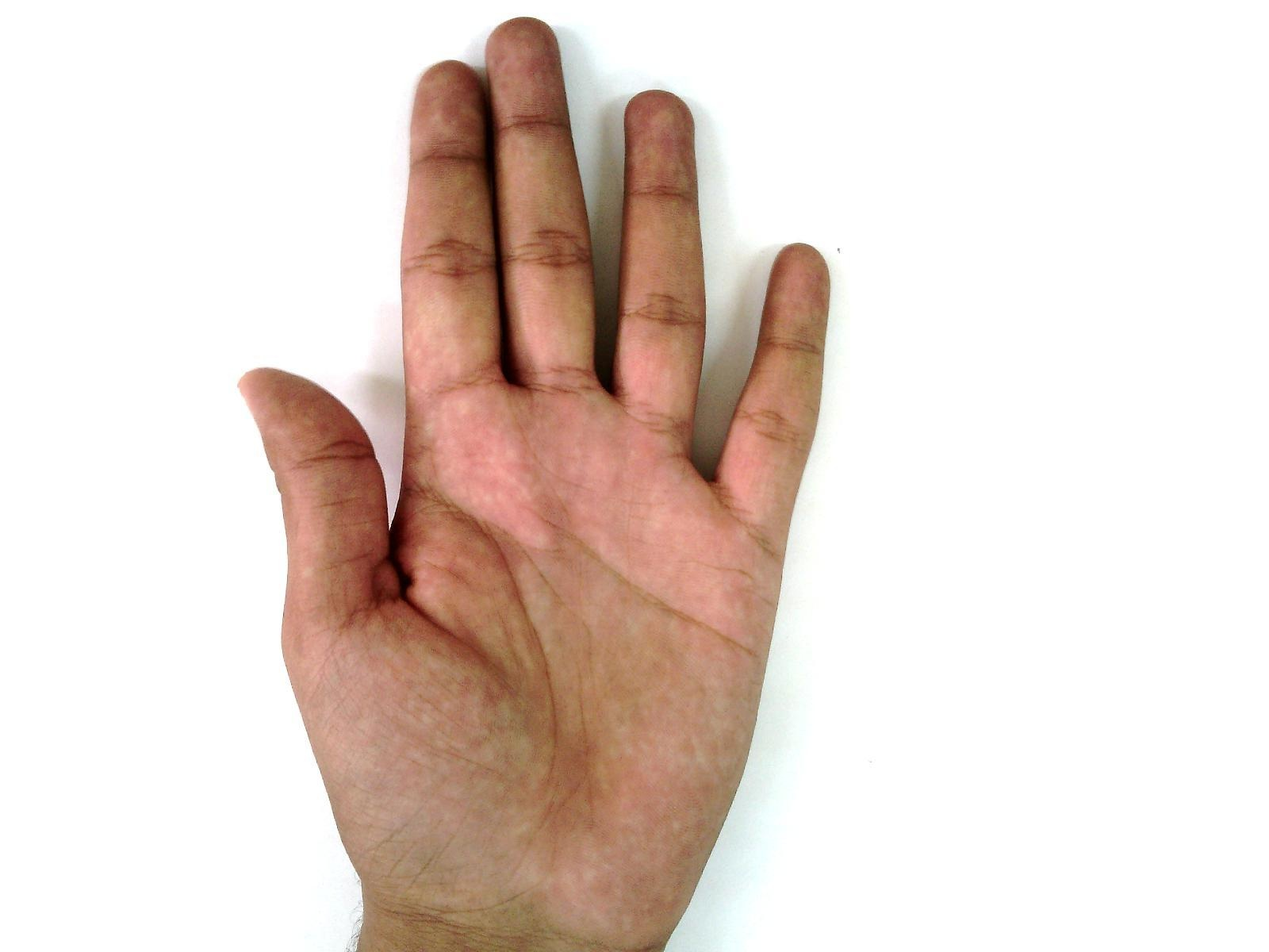open_palm: (236, 17, 834, 949)
